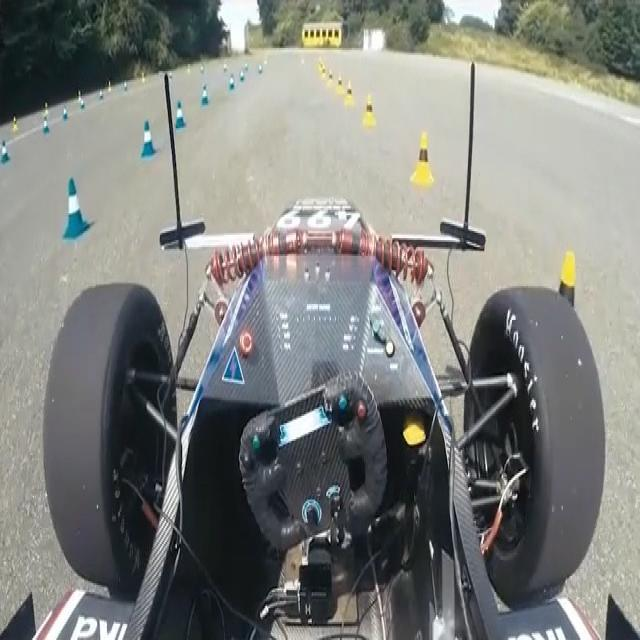blue_cone: (63, 177, 92, 241), (142, 120, 156, 158), (174, 100, 187, 129), (201, 83, 210, 107)
yellow_cone: (543, 249, 583, 363), (410, 131, 434, 189), (363, 94, 377, 128), (344, 80, 356, 106)
